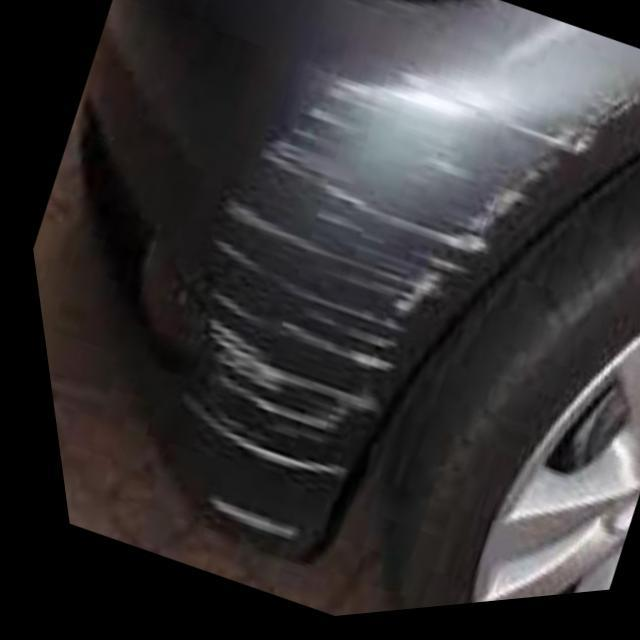rub: (171, 87, 591, 494)
